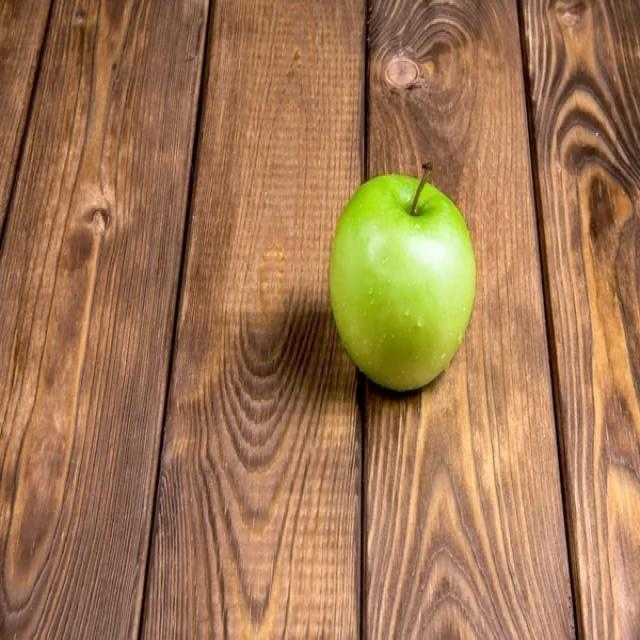green apple: (313, 167, 476, 395)
